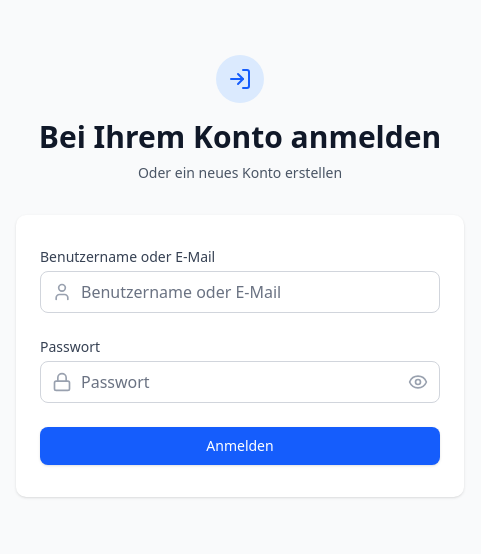
Test: Login Page › handles login failure with error message
This screenshot has width=481, height=554.
Type "wronguser" into the field with placeholder "Benutzername oder E-Mail" at (240, 292), box x1=40 y1=271 x2=440 y2=313
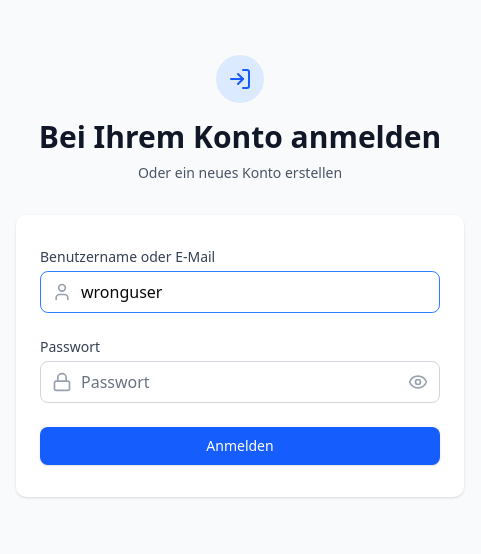
Type "wrongpassword" into the password field with placeholder "Passwort" at (240, 382), box x1=40 y1=361 x2=440 y2=403
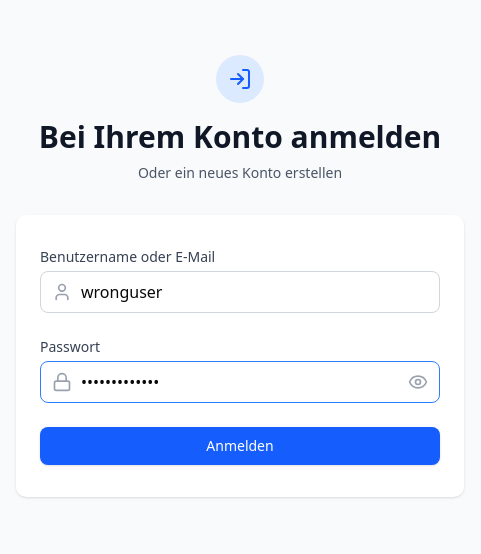
Click the button "Anmelden" at (240, 446), box x1=40 y1=427 x2=440 y2=465
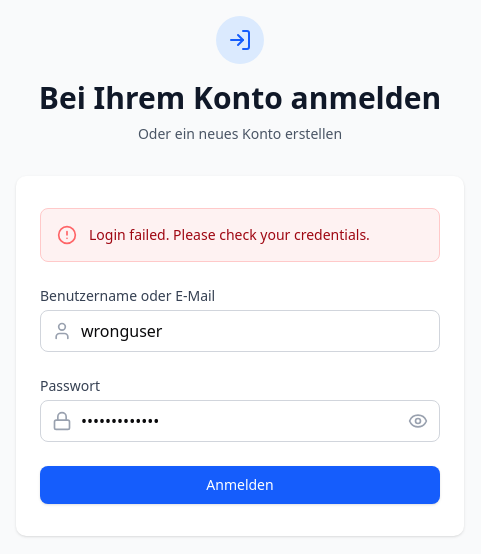
Expected: the text "Login failed. Please check your credentials." is shown, x1=89 y1=225 x2=370 y2=245
